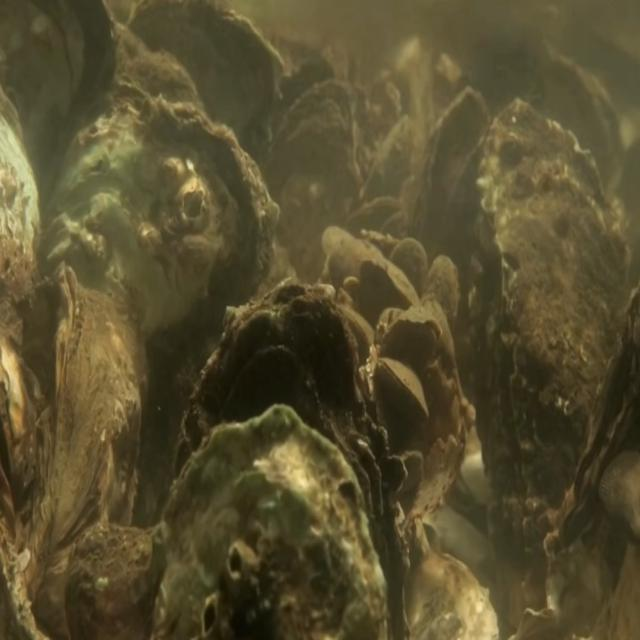Oyster-Closed: (47, 90, 281, 503), (177, 277, 409, 640), (468, 97, 628, 540), (148, 400, 387, 640), (541, 262, 640, 590), (376, 356, 430, 420), (385, 315, 443, 363)
Oyster-Indeterminate: (30, 260, 147, 640), (412, 85, 493, 316), (360, 255, 420, 309), (389, 237, 428, 309), (426, 254, 458, 329)
Oyster-Open: (259, 55, 355, 268)
